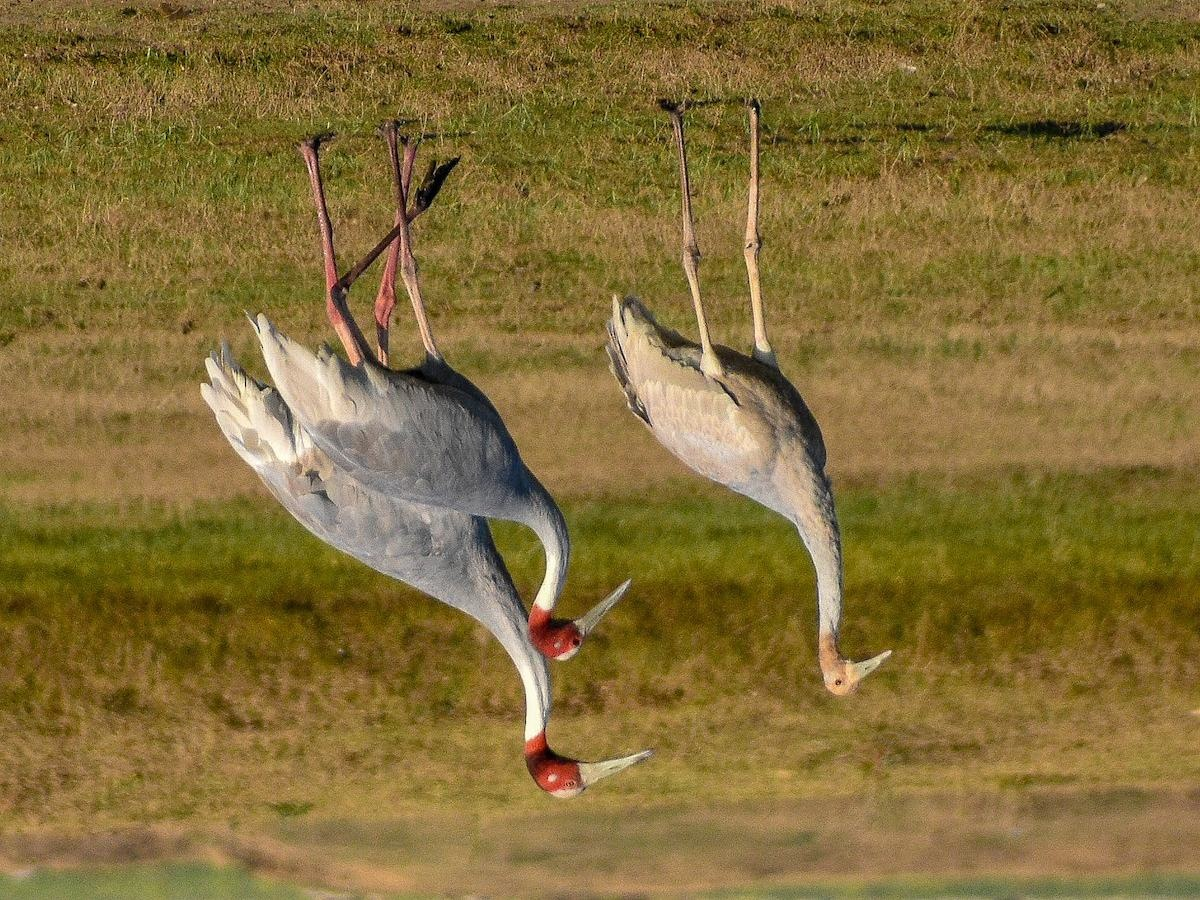crane: (307, 119, 638, 673), (607, 100, 902, 702), (300, 457, 666, 812)
